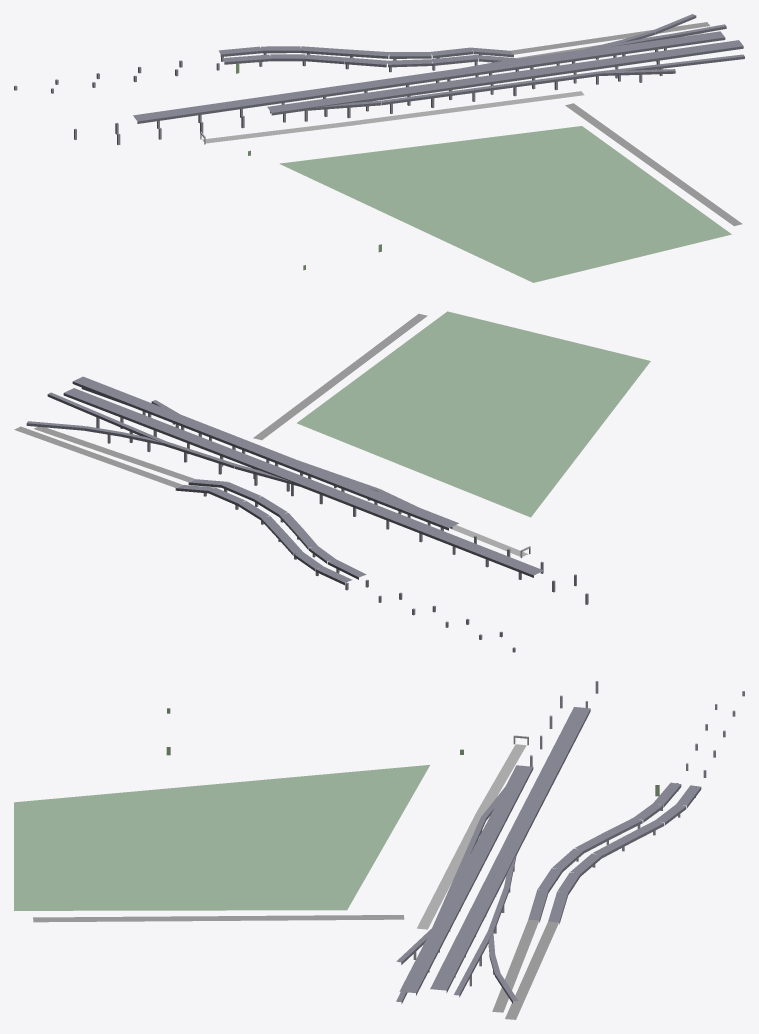
The picture shows the model from 3 angles, top to bottom: view 1: azimuth 30°, elevation 25°; view 2: azimuth 150°, elevation 25°; view 3: azimuth 270°, elevation 25°; orthographic projection. The views are drawn at different scales.
Size of the model in its own units: 474 by 15.36 by 449.
